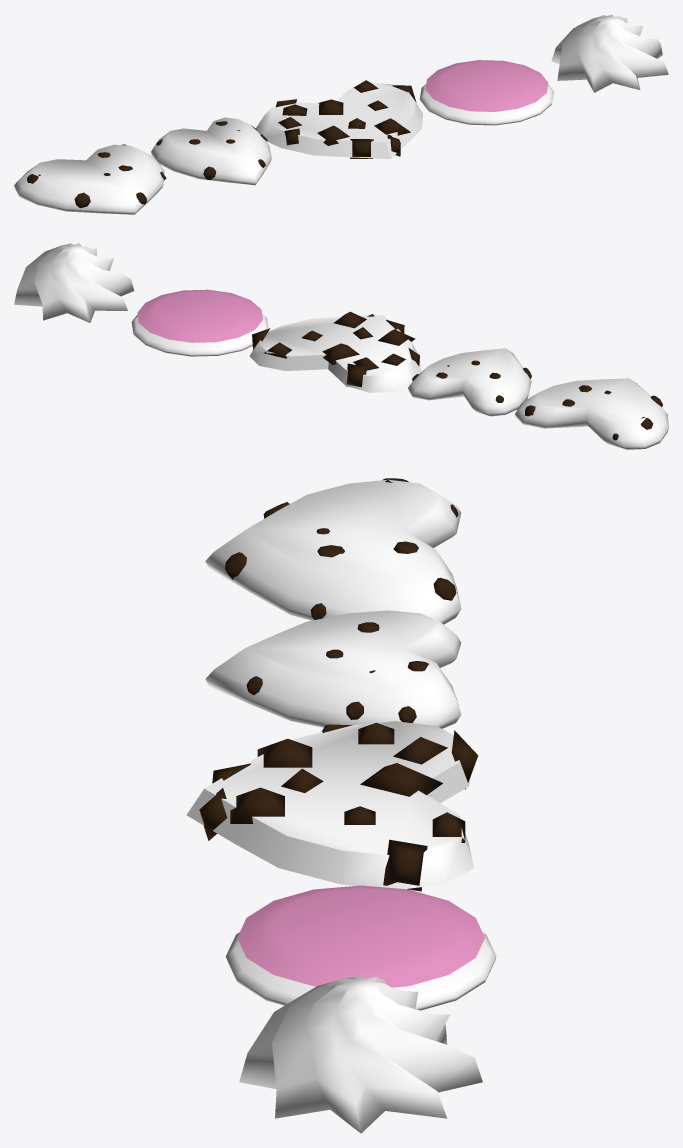
Rendered from Cookie1.glb.
The picture shows the model from 3 angles, top to bottom: view 1: azimuth 30°, elevation 25°; view 2: azimuth 150°, elevation 25°; view 3: azimuth 270°, elevation 25°; orthographic projection. The views are drawn at different scales.
Parts seen in each view (by area): view 1: HeartCookie1, SugarCookie, HeartCookie3, Twisty, HeartCookie2, ChocolateChip.028, ChocolateChip.021, ChocolateChip.023, ChocolateChip.022; view 2: SugarCookie, HeartCookie3, HeartCookie1, Twisty, HeartCookie2, ChocolateChip.022, ChocolateChip.020, ChocolateChip.021, ChocolateChip.023; view 3: HeartCookie3, HeartCookie1, Twisty, SugarCookie, HeartCookie2, ChocolateChip.027, ChocolateChip.022, ChocolateChip.023, ChocolateChip.021.
Part boxes in pixels (x1,y1,x2,y2): HeartCookie1: (14,144,164,214); SugarCookie: (420,60,553,125); HeartCookie3: (256,83,422,158); Twisty: (551,14,668,92); HeartCookie2: (151,117,271,185); ChocolateChip.028: (350,139,373,158); ChocolateChip.021: (317,125,349,145); ChocolateChip.023: (374,118,410,135); ChocolateChip.022: (318,99,343,114); SugarCookie: (131,289,268,356); HeartCookie3: (249,315,420,392); HeartCookie1: (515,378,668,449); Twisty: (14,243,134,322); HeartCookie2: (408,348,531,416); ChocolateChip.022: (322,343,359,364); ChocolateChip.020: (346,363,366,387); ChocolateChip.021: (378,329,415,345); ChocolateChip.023: (333,311,366,328); HeartCookie3: (186,721,473,888); HeartCookie1: (205,479,461,624); Twisty: (239,974,482,1133); SugarCookie: (225,885,496,1010); HeartCookie2: (205,610,461,728); ChocolateChip.027: (383,839,427,891); ChocolateChip.022: (360,763,442,796); ChocolateChip.023: (230,787,284,823); ChocolateChip.021: (257,738,312,767).
Size of the model in its own units: 8.29 by 0.6148 by 1.75.
